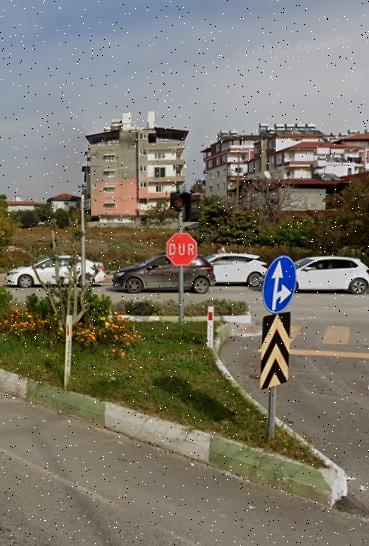stop: (167, 233, 197, 265)
